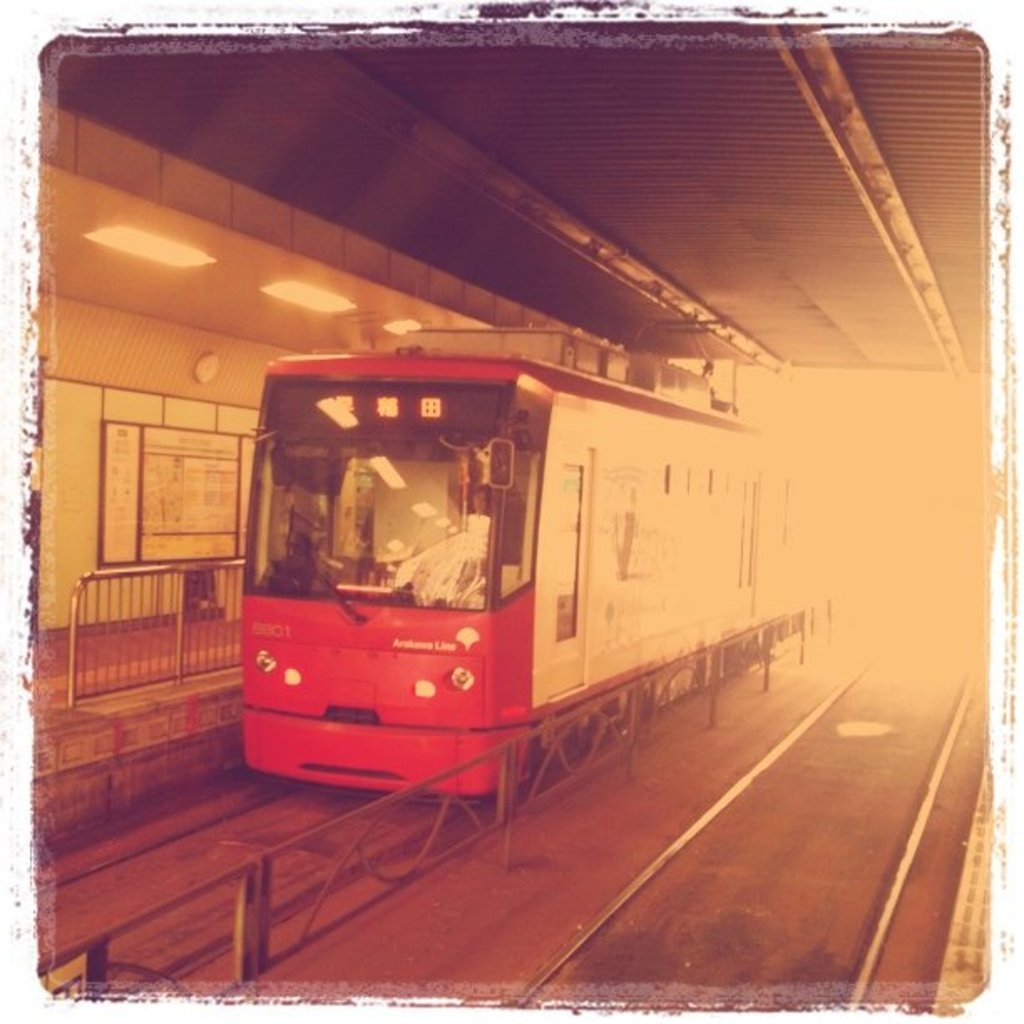train: (235, 311, 858, 811)
